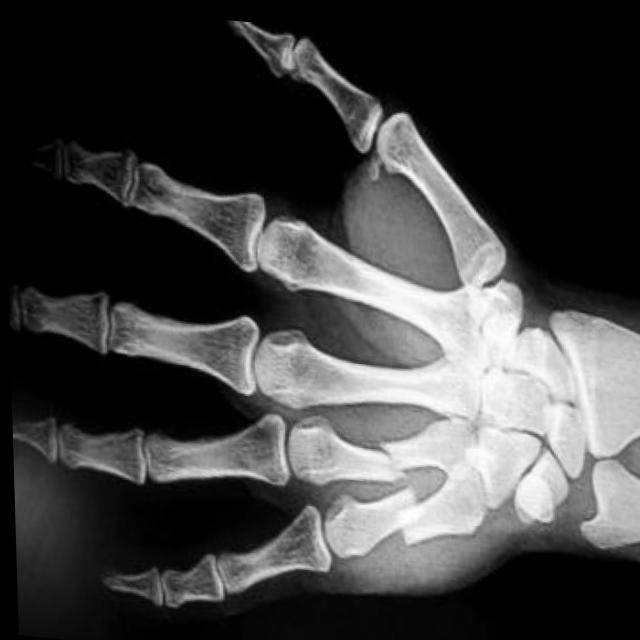fracture: (382, 470, 421, 551), (361, 419, 401, 474)
